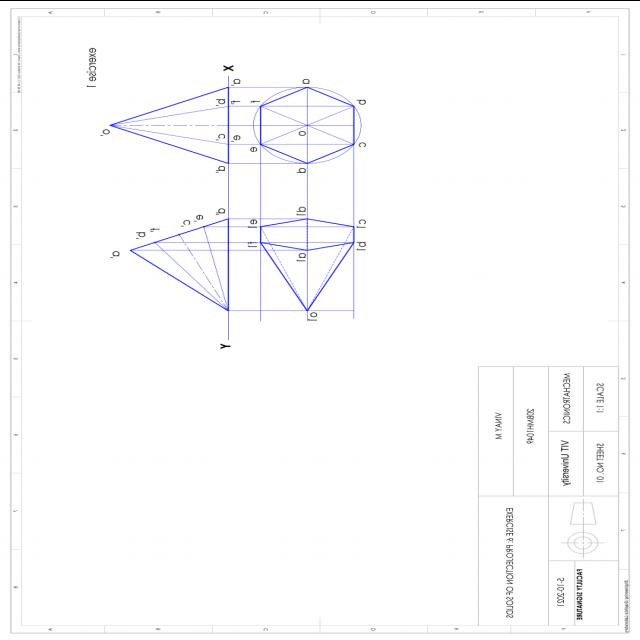Drawings: (66, 41, 376, 354)
